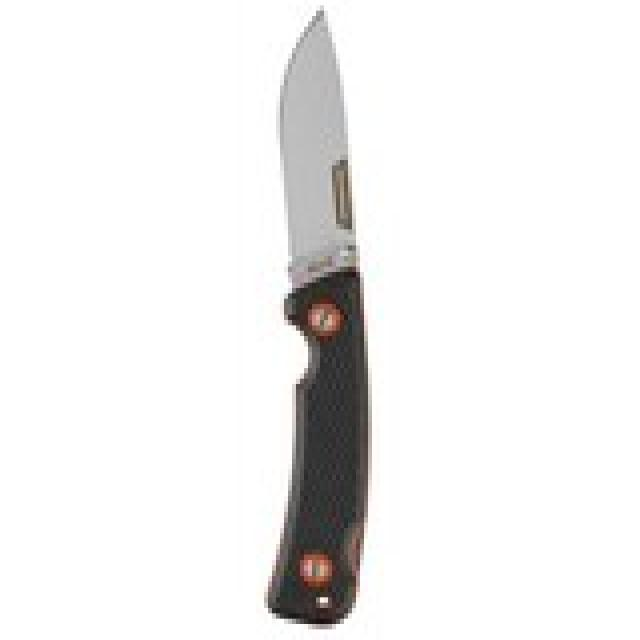Knife: (258, 6, 376, 627)
